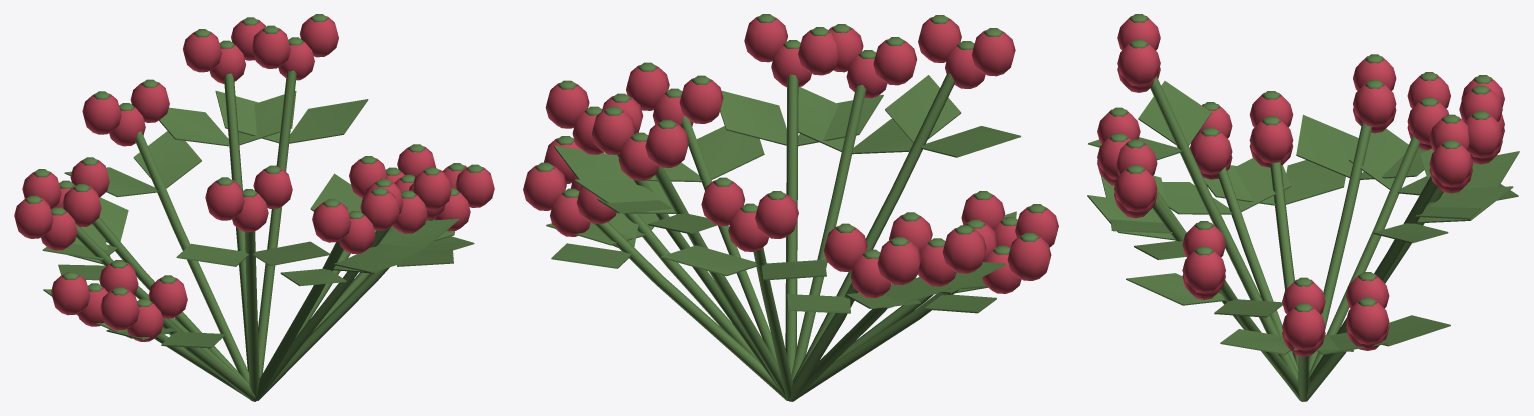
Rendered from berries.glb.
The picture shows the model from 3 angles, left to right: view 1: azimuth 30°, elevation 25°; view 2: azimuth 150°, elevation 25°; view 3: azimuth 270°, elevation 25°; orthographic projection. The views are drawn at different scales.
Parts seen in each view (by area): view 1: berry branch, berry; view 2: berry branch, berry; view 3: berry branch, berry.
Boxes of the visible parts, x1,y1,x2,y2 form: berry branch: (24,14,484,401); berry: (14,16,494,341); berry branch: (535,14,1047,401); berry: (523,16,1058,297); berry branch: (1087,14,1519,401); berry: (1097,15,1504,356).
Size of the model in its own units: 1.18 by 0.781 by 0.9318.
